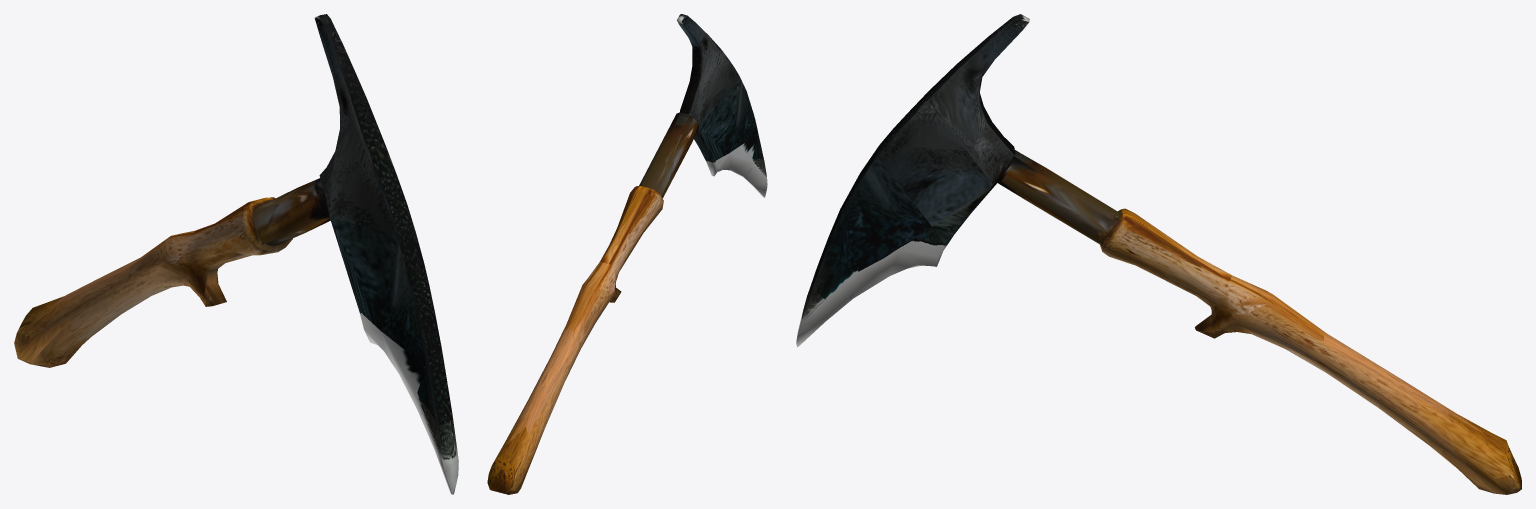
The model's file is axe1111Untitled.fbx.
The picture shows the model from 3 angles, left to right: view 1: azimuth 30°, elevation 25°; view 2: azimuth 150°, elevation 25°; view 3: azimuth 270°, elevation 25°; orthographic projection. The views are drawn at different scales.
Parts seen in each view (by area): view 1: meshes[0]; view 2: meshes[0]; view 3: meshes[0].
Boxes of the visible parts, box(x1,y1,x2,y2) form: meshes[0]: box(14, 14, 458, 494); meshes[0]: box(487, 14, 767, 494); meshes[0]: box(796, 14, 1521, 494).
Size of the model in its own units: 3.03 by 33.45 by 46.77.
Materials: 1 (1 with a texture image).
